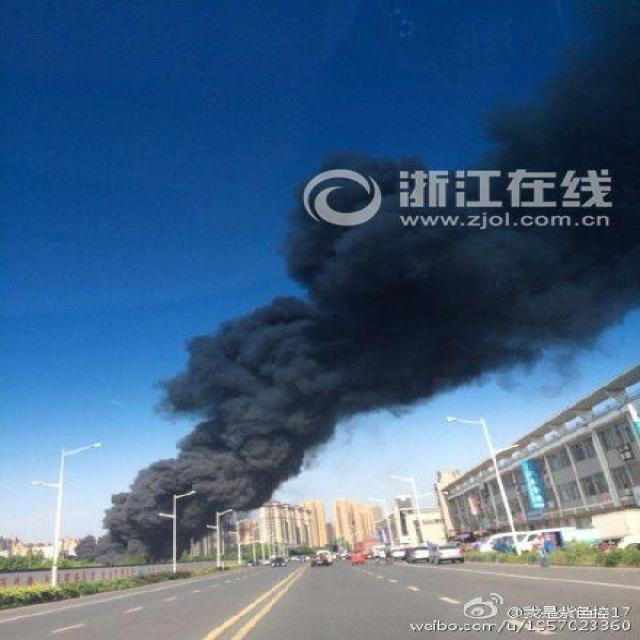Smoke: (72, 16, 640, 561)
